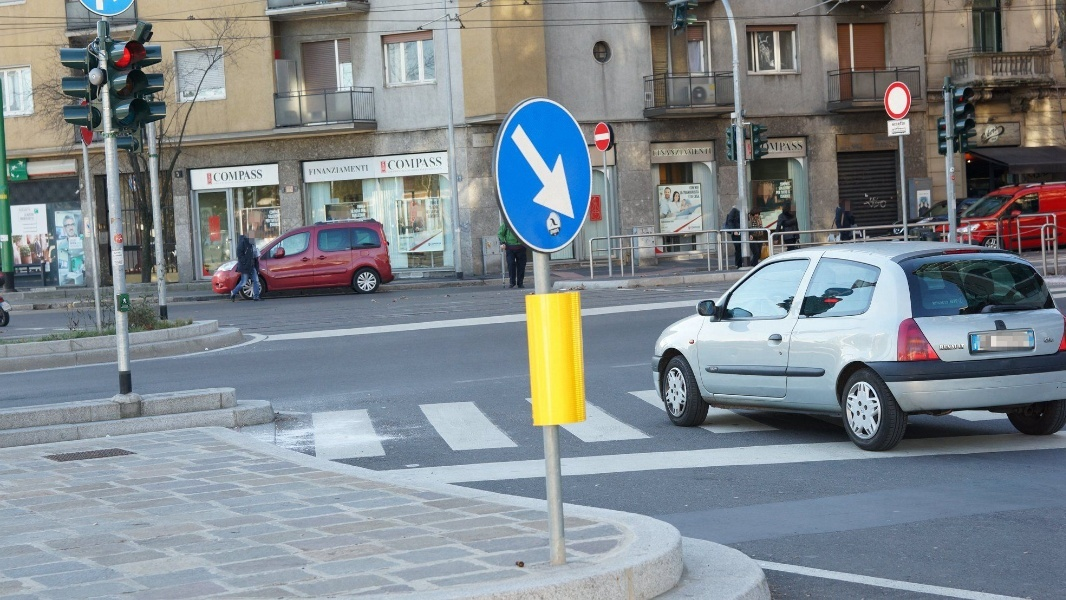text: (401, 156, 416, 171), (417, 156, 432, 171), (225, 169, 240, 182), (241, 169, 256, 182), (981, 125, 992, 142), (498, 241, 512, 254), (388, 156, 400, 171), (353, 165, 369, 176), (321, 165, 336, 176), (337, 165, 352, 176), (785, 141, 800, 152), (485, 239, 496, 254), (770, 141, 784, 152), (433, 156, 443, 171), (657, 148, 672, 157), (673, 148, 688, 157), (689, 148, 704, 157), (214, 169, 224, 182), (309, 165, 320, 176), (993, 125, 1000, 142), (945, 344, 960, 351), (70, 239, 80, 249), (661, 224, 672, 233), (177, 172, 192, 178), (113, 248, 123, 257), (257, 169, 263, 182), (1, 195, 16, 200), (690, 186, 704, 191), (2, 236, 16, 241), (353, 208, 367, 213), (1029, 341, 1040, 347), (19, 207, 32, 212), (115, 260, 128, 265), (353, 213, 366, 218), (705, 148, 712, 157), (689, 194, 701, 199), (689, 225, 701, 230), (762, 142, 768, 151), (897, 121, 906, 127), (87, 231, 96, 237), (19, 217, 32, 221), (273, 218, 281, 224), (359, 217, 368, 222), (689, 191, 700, 195), (661, 220, 672, 224), (265, 218, 272, 224), (776, 189, 784, 194), (433, 243, 442, 247), (209, 173, 212, 185), (919, 193, 928, 197), (939, 344, 944, 351), (273, 214, 280, 219), (433, 205, 440, 210), (433, 209, 440, 214), (433, 214, 440, 219), (481, 141, 492, 144), (801, 141, 804, 152), (85, 218, 96, 221), (357, 205, 368, 208), (680, 191, 688, 195), (24, 213, 32, 217), (273, 210, 281, 214), (273, 223, 281, 227), (785, 189, 791, 194), (426, 209, 432, 214), (459, 175, 464, 181), (961, 344, 965, 351), (121, 305, 128, 309), (653, 148, 656, 157), (23, 227, 32, 230), (401, 237, 414, 239), (785, 182, 791, 186), (785, 186, 791, 190), (785, 194, 791, 198), (433, 201, 439, 205), (779, 186, 784, 190), (268, 214, 272, 219), (428, 205, 432, 210), (428, 214, 432, 219), (893, 121, 896, 127), (23, 224, 32, 226), (23, 231, 32, 233), (780, 182, 784, 186), (780, 194, 784, 198), (476, 141, 480, 144), (429, 243, 432, 247), (33, 227, 37, 230), (207, 173, 208, 185), (81, 234, 83, 240), (33, 231, 38, 233), (81, 239, 82, 249), (350, 208, 352, 213), (769, 142, 770, 151), (33, 213, 35, 217), (33, 217, 35, 221), (33, 224, 37, 226), (270, 210, 272, 214), (270, 223, 272, 227), (673, 220, 675, 224), (431, 201, 432, 205)
